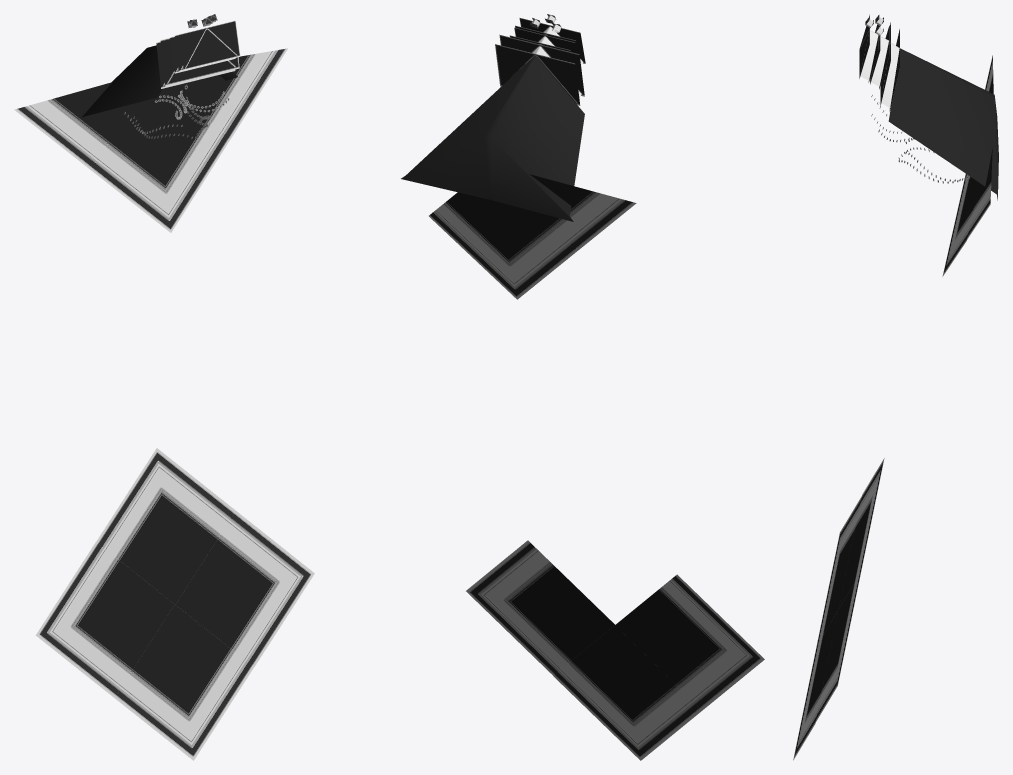
The picture shows the model from 3 angles, left to right: view 1: azimuth 30°, elevation 25°; view 2: azimuth 150°, elevation 25°; view 3: azimuth 270°, elevation 25°; orthographic projection. The views are drawn at different scales.
Parts seen in each view (by area): view 1: bordo_01.1 (×2), bordo_01 (×2), bordo_01.3 (×2), bordo_01.2, nero, topgrande2, topgrande2.4; view 2: bordo_01.1 (×2), nero, bordo_01 (×2), bordo_01.3, topgrande2.5, topgrande2.4; view 3: nero, bordo_01.1 (×2), bordo_01.3 (×2), bordo_01.2, bordo_01, no_alpha.2, no_alpha.1, no_alpha.
Boxes of the visible parts, x1,y1,x2,y2 form: bordo_01.1 (×2): [91, 88, 253, 760]; bordo_01 (×2): [14, 82, 174, 697]; bordo_01.3 (×2): [166, 48, 314, 666]; bordo_01.2: [96, 448, 235, 604]; nero: [82, 45, 237, 117]; topgrande2: [179, 20, 240, 70]; topgrande2.4: [160, 38, 239, 86]; bordo_01.1 (×2): [429, 192, 702, 760]; nero: [401, 56, 584, 221]; bordo_01 (×2): [529, 174, 764, 709]; bordo_01.3: [466, 540, 614, 675]; topgrande2.5: [495, 44, 580, 105]; topgrande2.4: [499, 34, 584, 96]; nero: [888, 48, 998, 200]; bordo_01.1 (×2): [793, 174, 979, 760]; bordo_01.3 (×2): [815, 149, 992, 722]; bordo_01.2: [838, 458, 884, 608]; bordo_01: [816, 497, 861, 645]; no_alpha.2: [881, 42, 899, 108]; no_alpha.1: [871, 36, 888, 86]; no_alpha: [860, 30, 878, 80].
Size of the model in its own units: 1737 by 3637 by 883.
9 materials, 7 textured.
